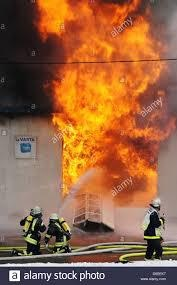fire: (43, 0, 176, 210)
